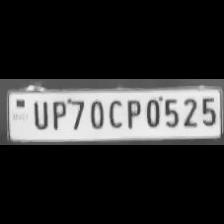0: (85, 97, 105, 129), (142, 96, 162, 128)
2: (178, 96, 198, 128)
5: (160, 96, 180, 128), (198, 94, 216, 128)
7: (66, 97, 86, 130)
C: (105, 97, 123, 129)
P: (48, 98, 68, 130), (123, 96, 141, 130)
U: (29, 98, 49, 130)
